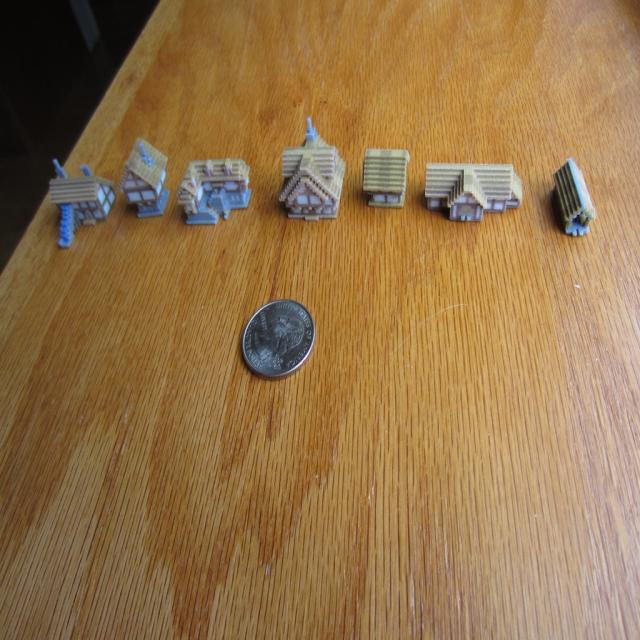Coin: (240, 290, 318, 378)
